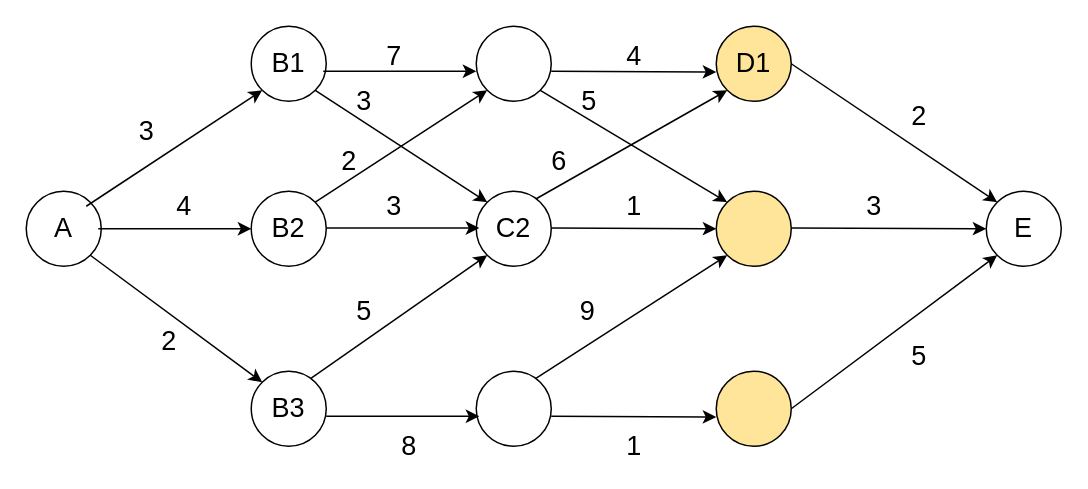
This 1088x489 diagram has some shape labels left out. Each missing label, with the centre of its shape:
"C1" goes at point 513,63.
"C3" goes at point 513,408.
"D2" goes at point 753,228.
"D3" goes at point 753,408.
